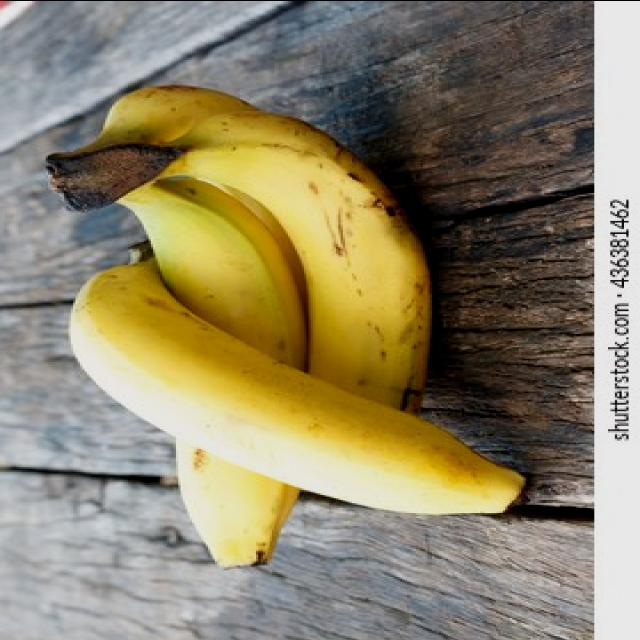Platano: (39, 84, 439, 570), (66, 236, 538, 516)
